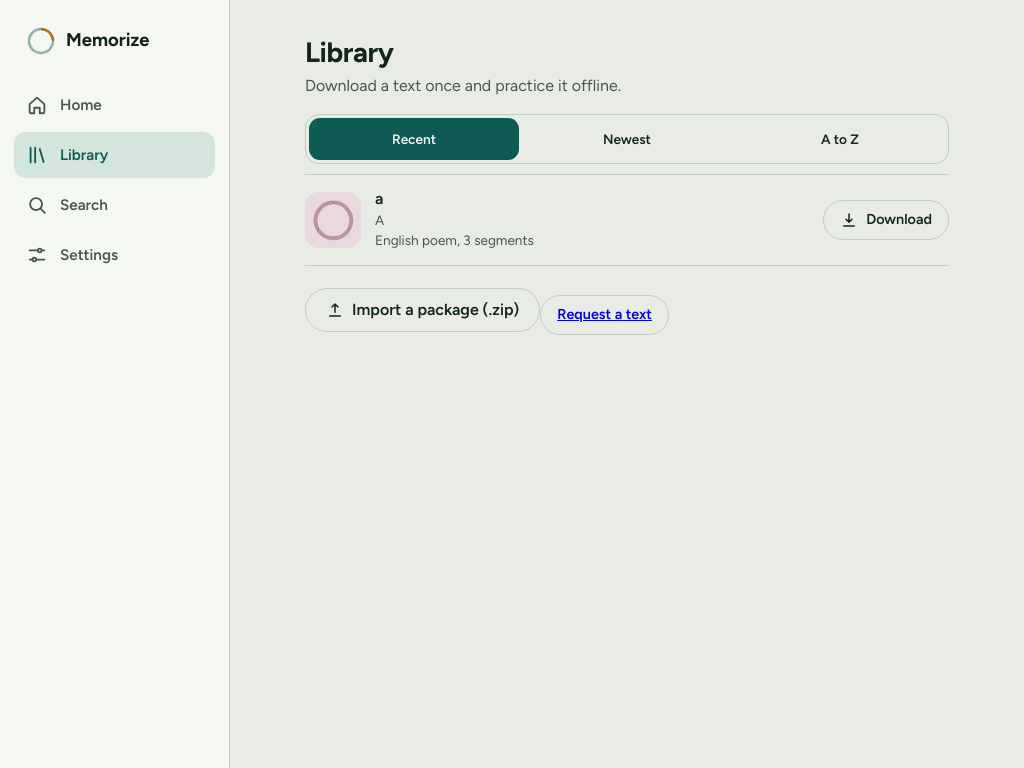
it: Update available › offers an update when the published package hash changes, and installing it replaces the text
Click the button "Download".
click(886, 220)  # box [823,200,949,240]
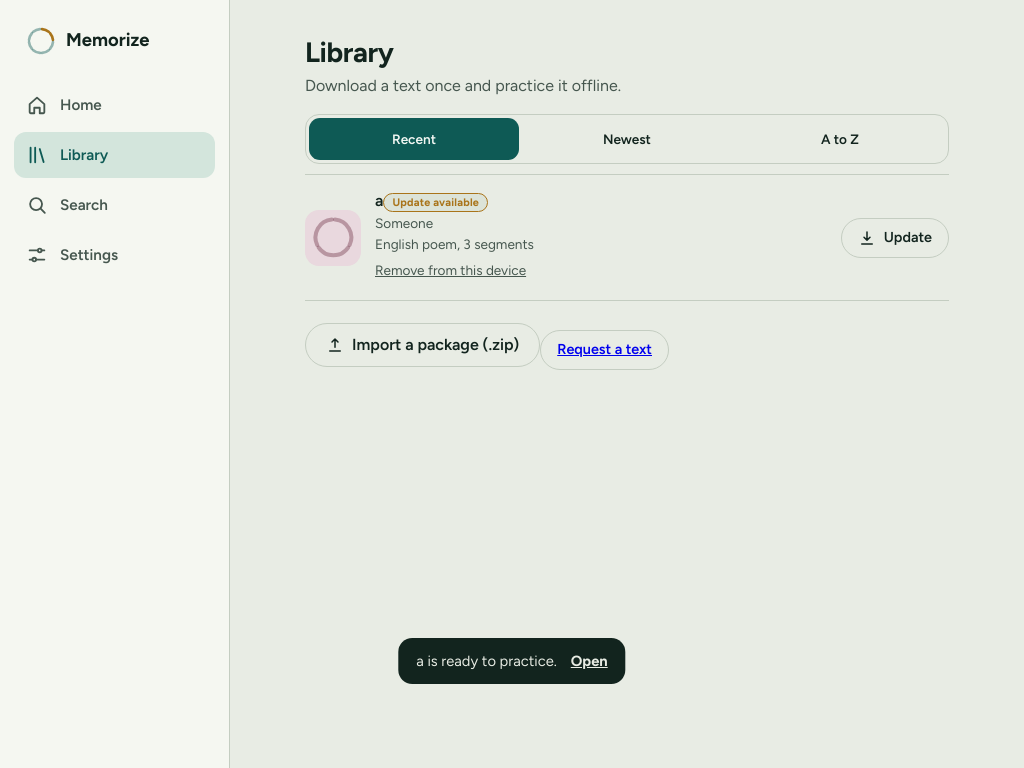
Now the text "Update available" is shown, box [383,193,488,212]
Click the button "Update".
click(895, 238)  # box [841,218,949,258]
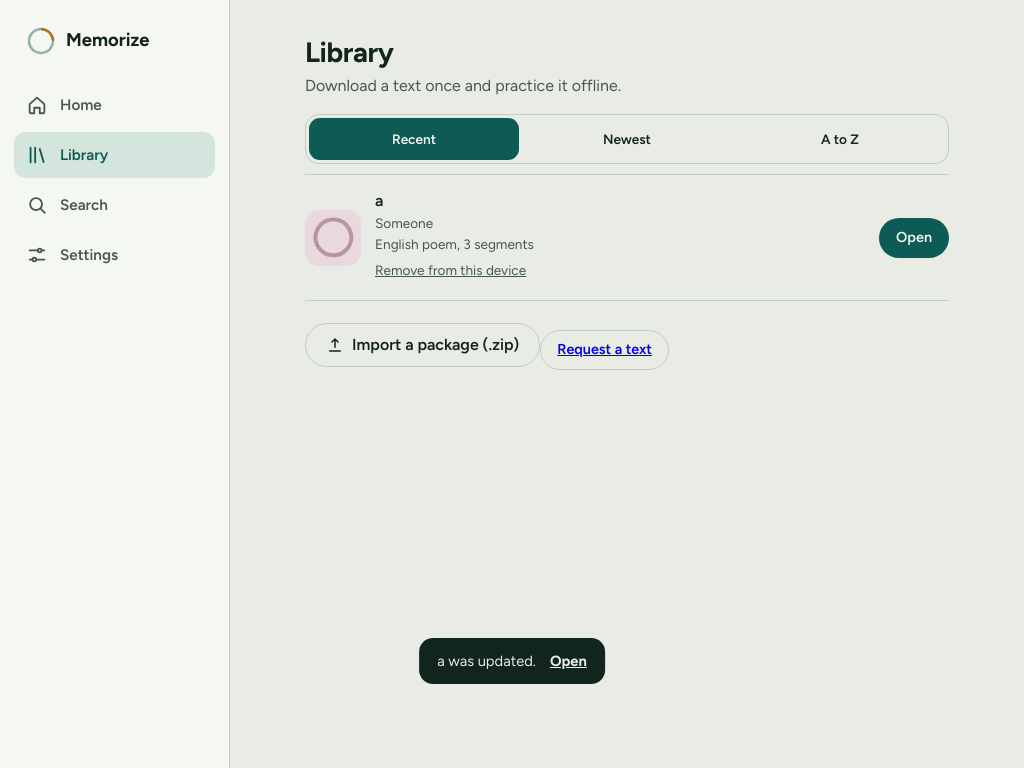
Now the text "Update available" is gone
Now the text "a was updated." is shown, box [437,650,536,672]
